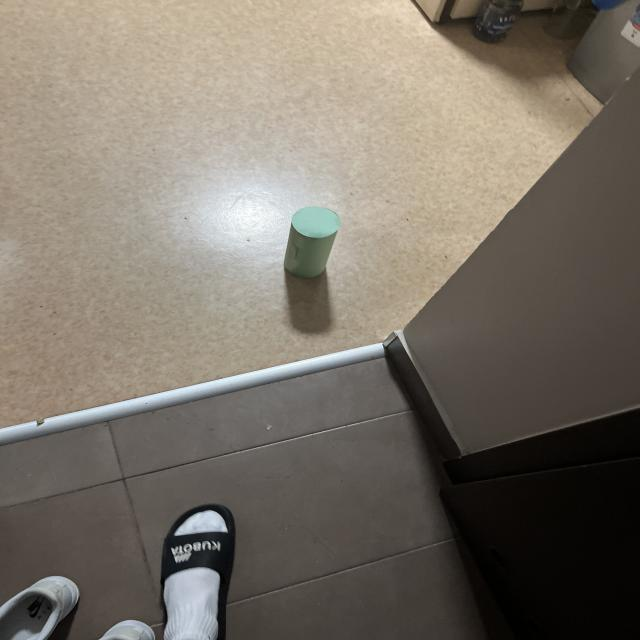meta: (284, 206, 340, 278)
